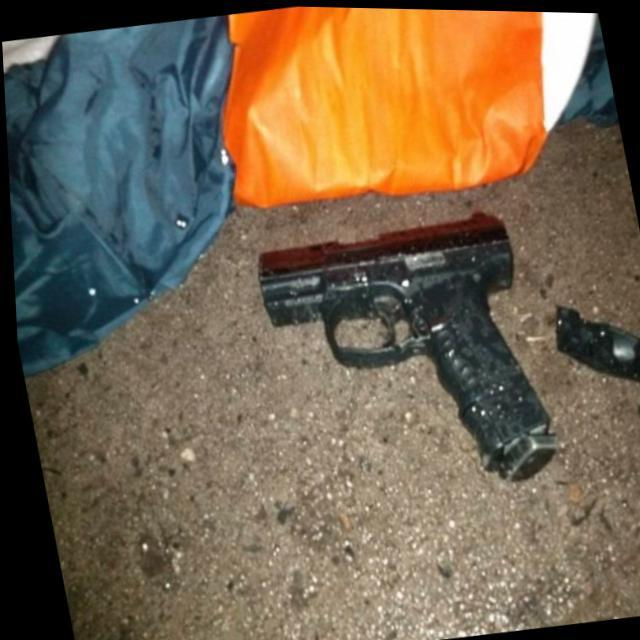weapon: (245, 200, 560, 510)
